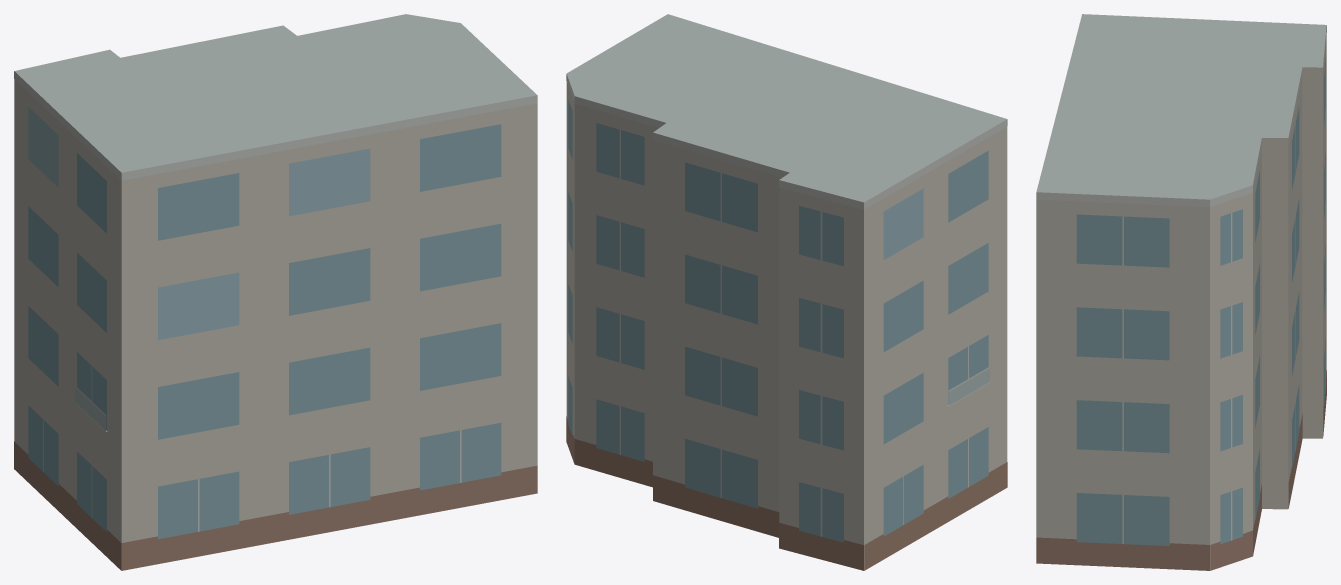
File: survey-upis-32670383.glb
The picture shows the model from 3 angles, left to right: view 1: azimuth 30°, elevation 25°; view 2: azimuth 150°, elevation 25°; view 3: azimuth 270°, elevation 25°; orthographic projection. The views are drawn at different scales.
Parts seen in each view (by area): view 1: survey-upis-32670383.tmp; view 2: survey-upis-32670383.tmp; view 3: survey-upis-32670383.tmp.
Boxes of the visible parts, left/top/right/bottom form: survey-upis-32670383.tmp: left=14, top=14, right=537, bottom=570; survey-upis-32670383.tmp: left=566, top=14, right=1007, bottom=570; survey-upis-32670383.tmp: left=1036, top=14, right=1326, bottom=570.
Size of the model in its own units: 13.09 by 12.2 by 8.66.
